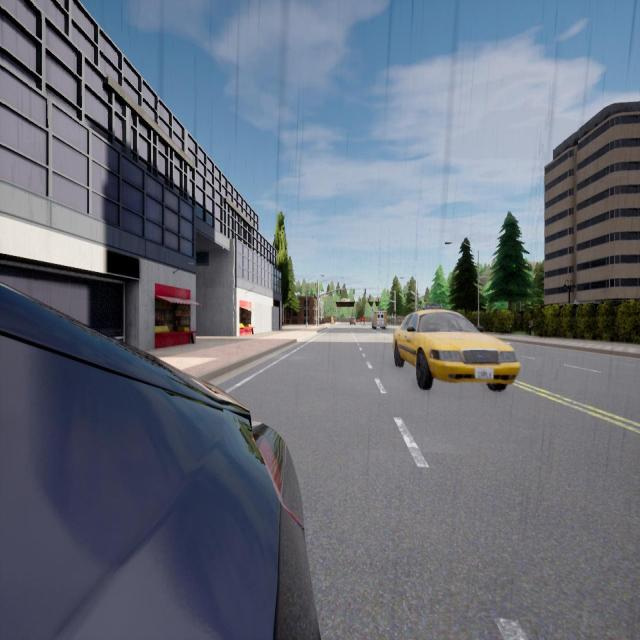Vehicle: (0, 282, 321, 640), (392, 309, 520, 391), (371, 310, 388, 329), (350, 318, 356, 325), (360, 316, 365, 324)
traffic_light: (359, 298, 361, 302), (394, 310, 396, 313), (365, 289, 366, 294), (340, 290, 341, 294), (368, 298, 369, 302), (378, 298, 379, 302), (404, 294, 405, 297), (411, 293, 412, 296), (354, 289, 354, 294)
